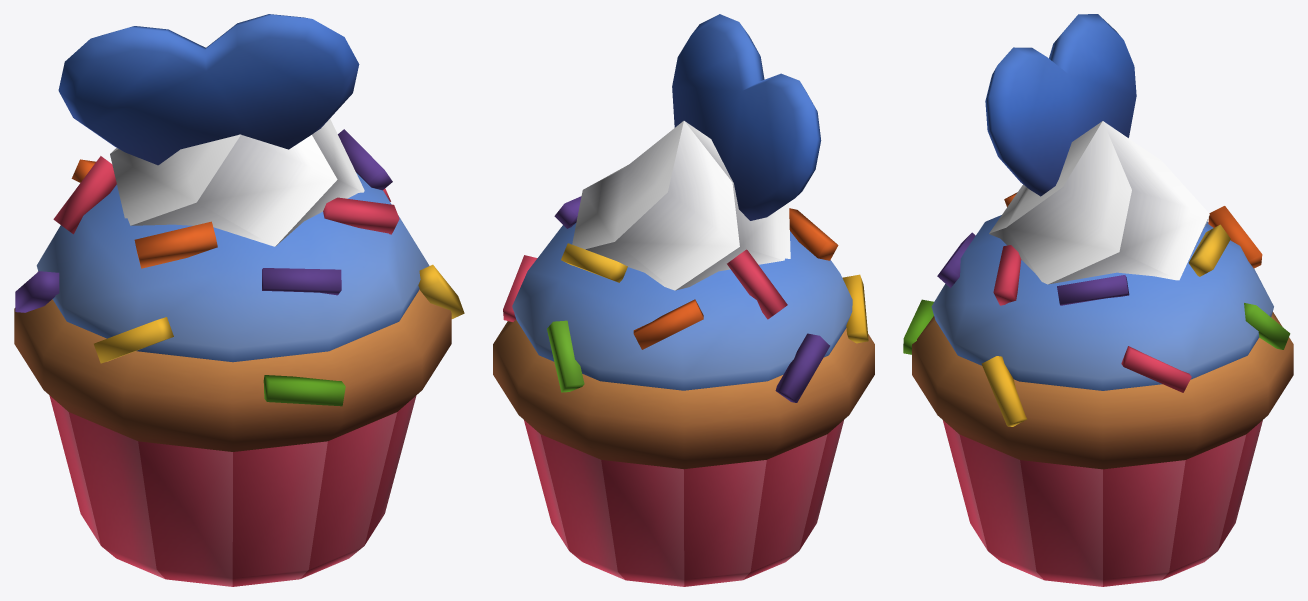
File: m_Cupcake13.fbx
3 renders of one model, left to right at view 1: azimuth 30°, elevation 25°; view 2: azimuth 150°, elevation 25°; view 3: azimuth 270°, elevation 25°, orthographic. The views are drawn at different scales.
Parts seen in each view (by area): view 1: m_Cupcake13; view 2: m_Cupcake13; view 3: m_Cupcake13.
Part boxes in pixels (x1,y1,x2,y2): m_Cupcake13: (14,14,464,586); m_Cupcake13: (493,14,874,586); m_Cupcake13: (903,14,1293,586).
Bounding box in the file's own units: 11.39 × 15.96 × 11.65.
